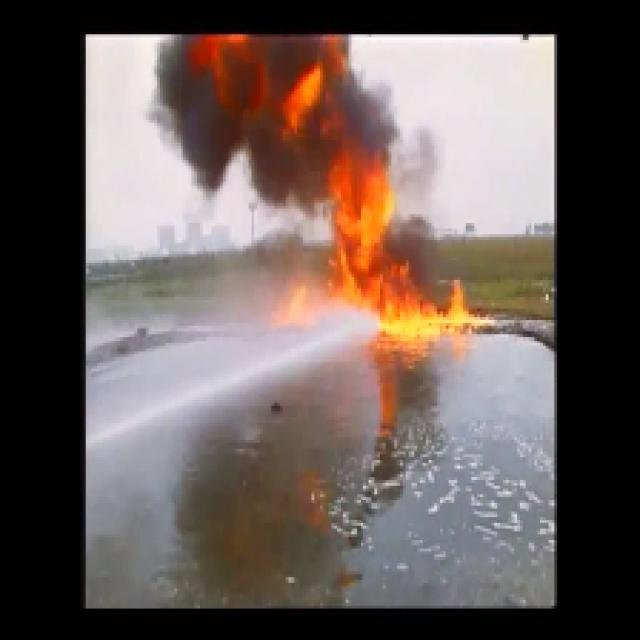fire: (335, 163, 484, 341)
smoke: (139, 36, 405, 152)
